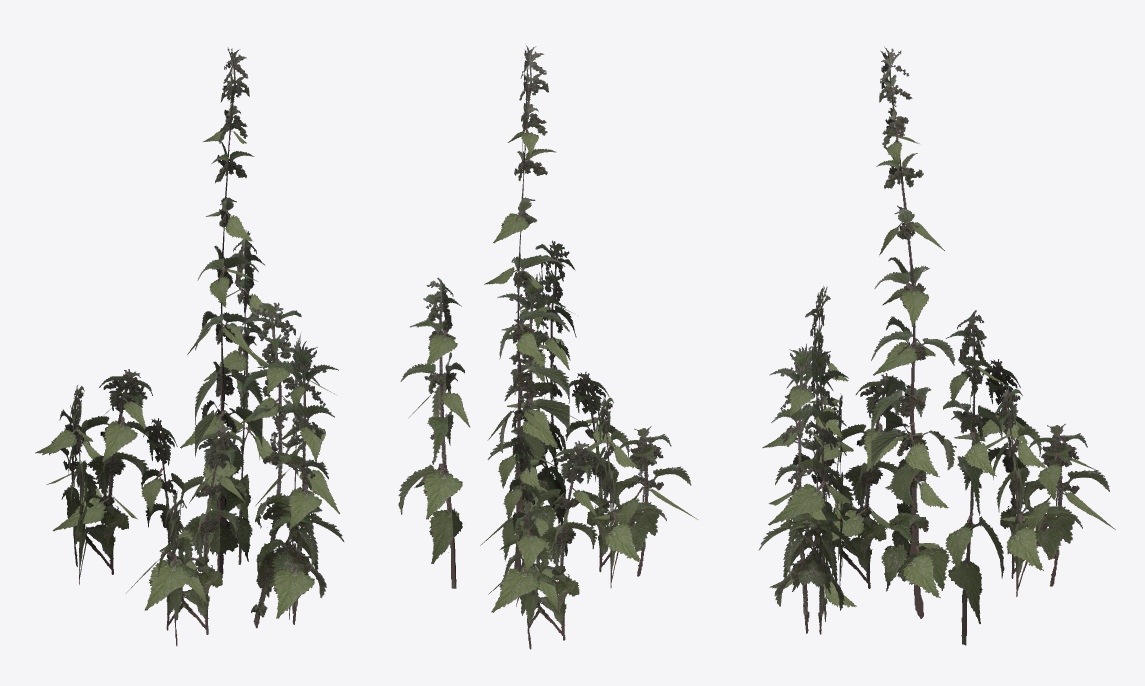
The model's file is SM_Plant_Forest_11.fbx.
3 views of the same model, side by side, from view 1: azimuth 30°, elevation 25°; view 2: azimuth 150°, elevation 25°; view 3: azimuth 270°, elevation 25° (orthographic). The views are drawn at different scales.
Visible parts, largest first — view 1: SM_Plant_Forest_11; view 2: SM_Plant_Forest_11; view 3: SM_Plant_Forest_11.
Part boxes in pixels (x1,y1,x2,y2): SM_Plant_Forest_11: (35, 47, 344, 646); SM_Plant_Forest_11: (398, 45, 697, 649); SM_Plant_Forest_11: (758, 46, 1115, 645).
Bounding box in the file's own units: 42.86 × 57.83 × 100.
1 material, 1 textured.
